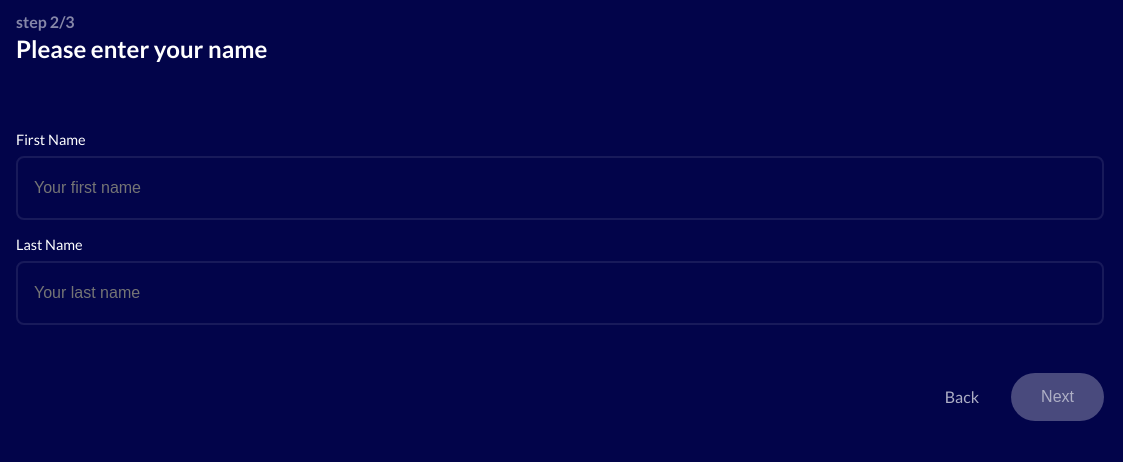
Test: component StepDriverOne › should not sumbit when both firsName and lastName are empty
This screenshot has width=1123, height=462.
Click the button "Next": {"x": 1058, "y": 397} [1011, 373, 1104, 421]
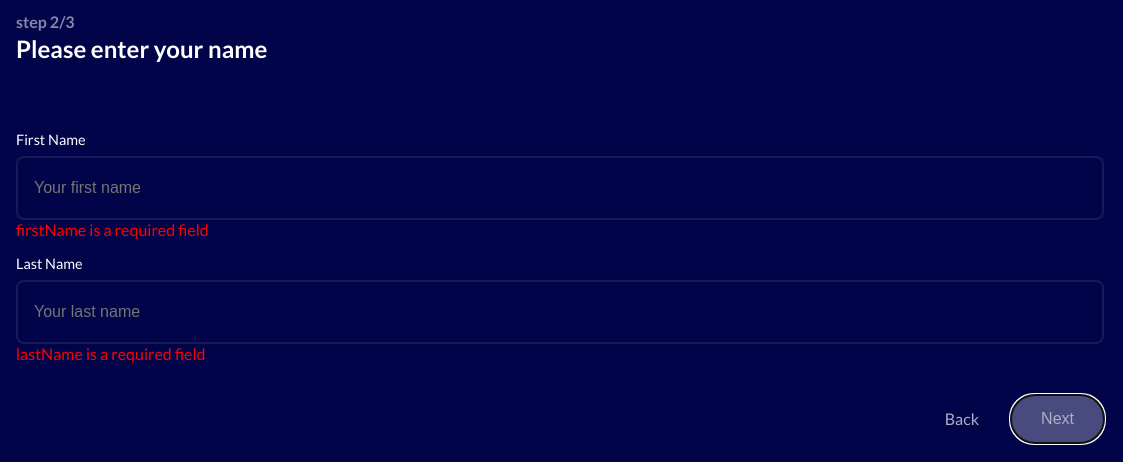
Check: the text "firstName is a required field" is shown, box [16, 220, 209, 239]
Check: the text "lastName is a required field" is shown, box [16, 344, 206, 363]
